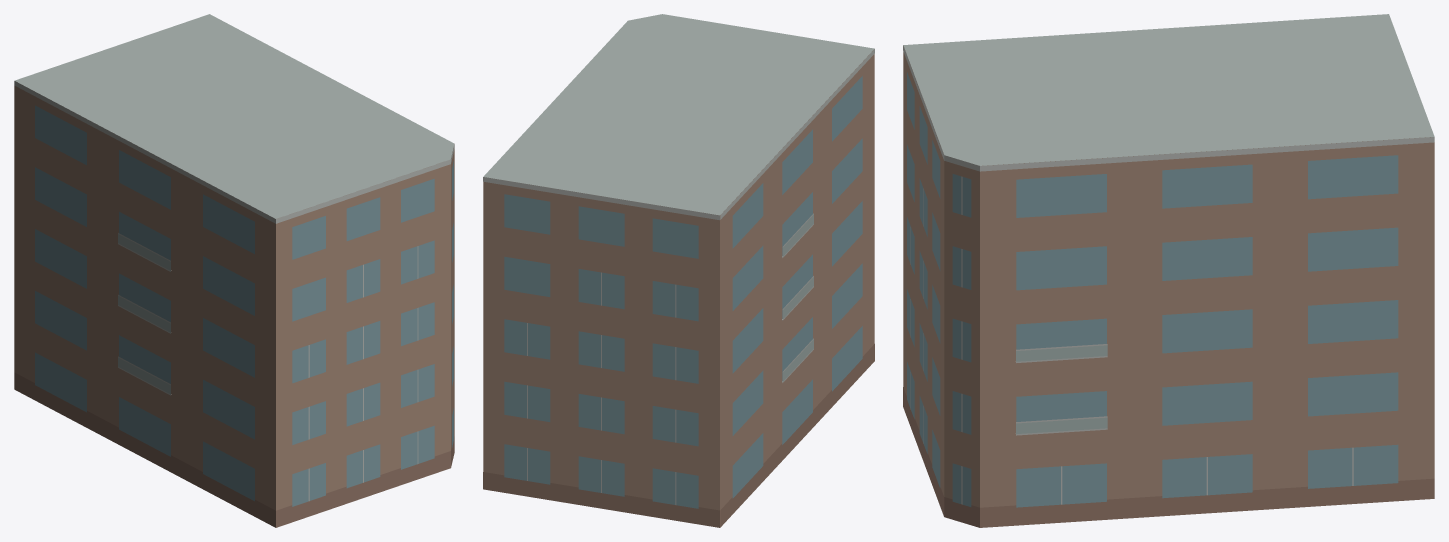
File: survey-upis-32615626.glb
3 renders of one model, left to right at view 1: azimuth 30°, elevation 25°; view 2: azimuth 150°, elevation 25°; view 3: azimuth 270°, elevation 25°, orthographic. The views are drawn at different scales.
Visible parts, largest first — view 1: survey-upis-32615626.tmp; view 2: survey-upis-32615626.tmp; view 3: survey-upis-32615626.tmp.
Boxes of the visible parts, box(x1,y1,x2,y2) form: survey-upis-32615626.tmp: box(14, 14, 454, 527); survey-upis-32615626.tmp: box(483, 14, 874, 527); survey-upis-32615626.tmp: box(903, 14, 1434, 527).
Size of the model in its own units: 14.14 by 15.7 by 20.9.
